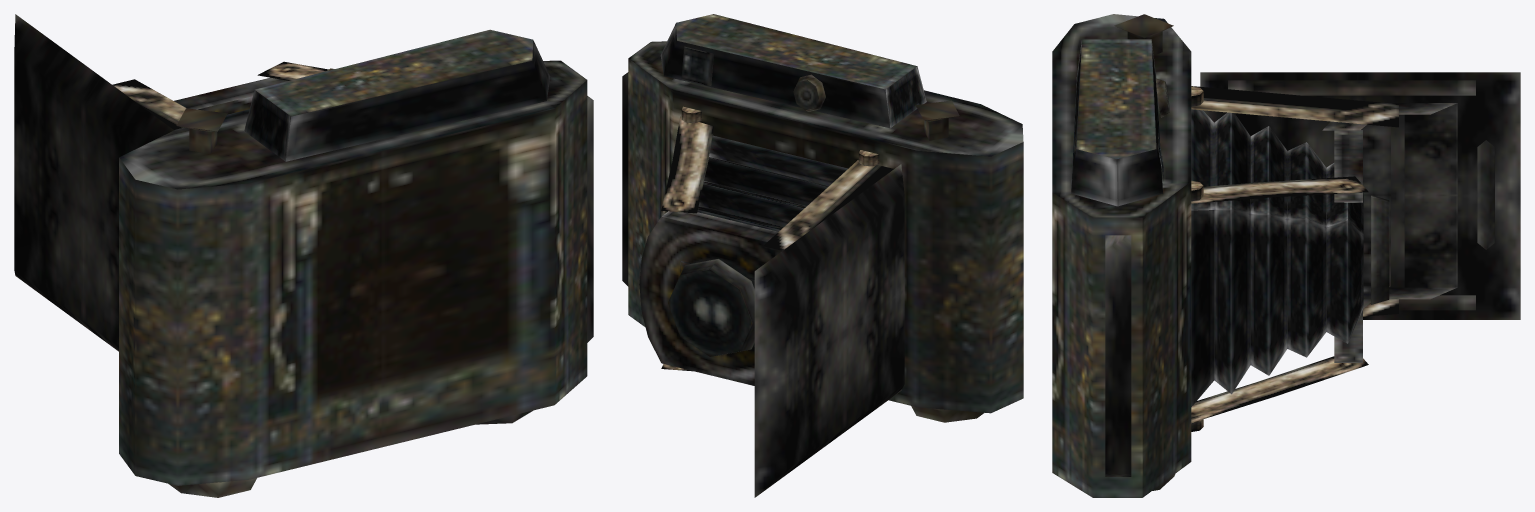
The model's file is zero-b-game.ico.obj.
The picture shows the model from 3 angles, left to right: view 1: azimuth 30°, elevation 25°; view 2: azimuth 150°, elevation 25°; view 3: azimuth 270°, elevation 25°; orthographic projection. The views are drawn at different scales.
Bounding box in the file's own units: 4.61 × 3.5 × 4.35.
1 material, 1 textured.
